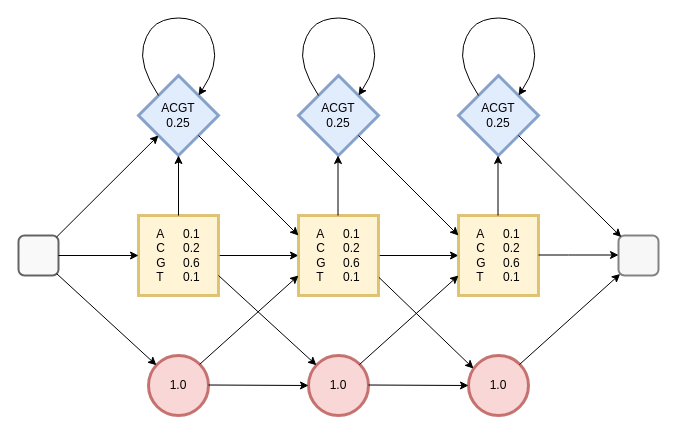
Some shapes in this 676 by 434 pixel diagram are drawn without their labels. Here are the shapes that lost their labels. From the top down, the centre of each, then its label:
At point 38,255: "Start".
At point 638,255: "End".
